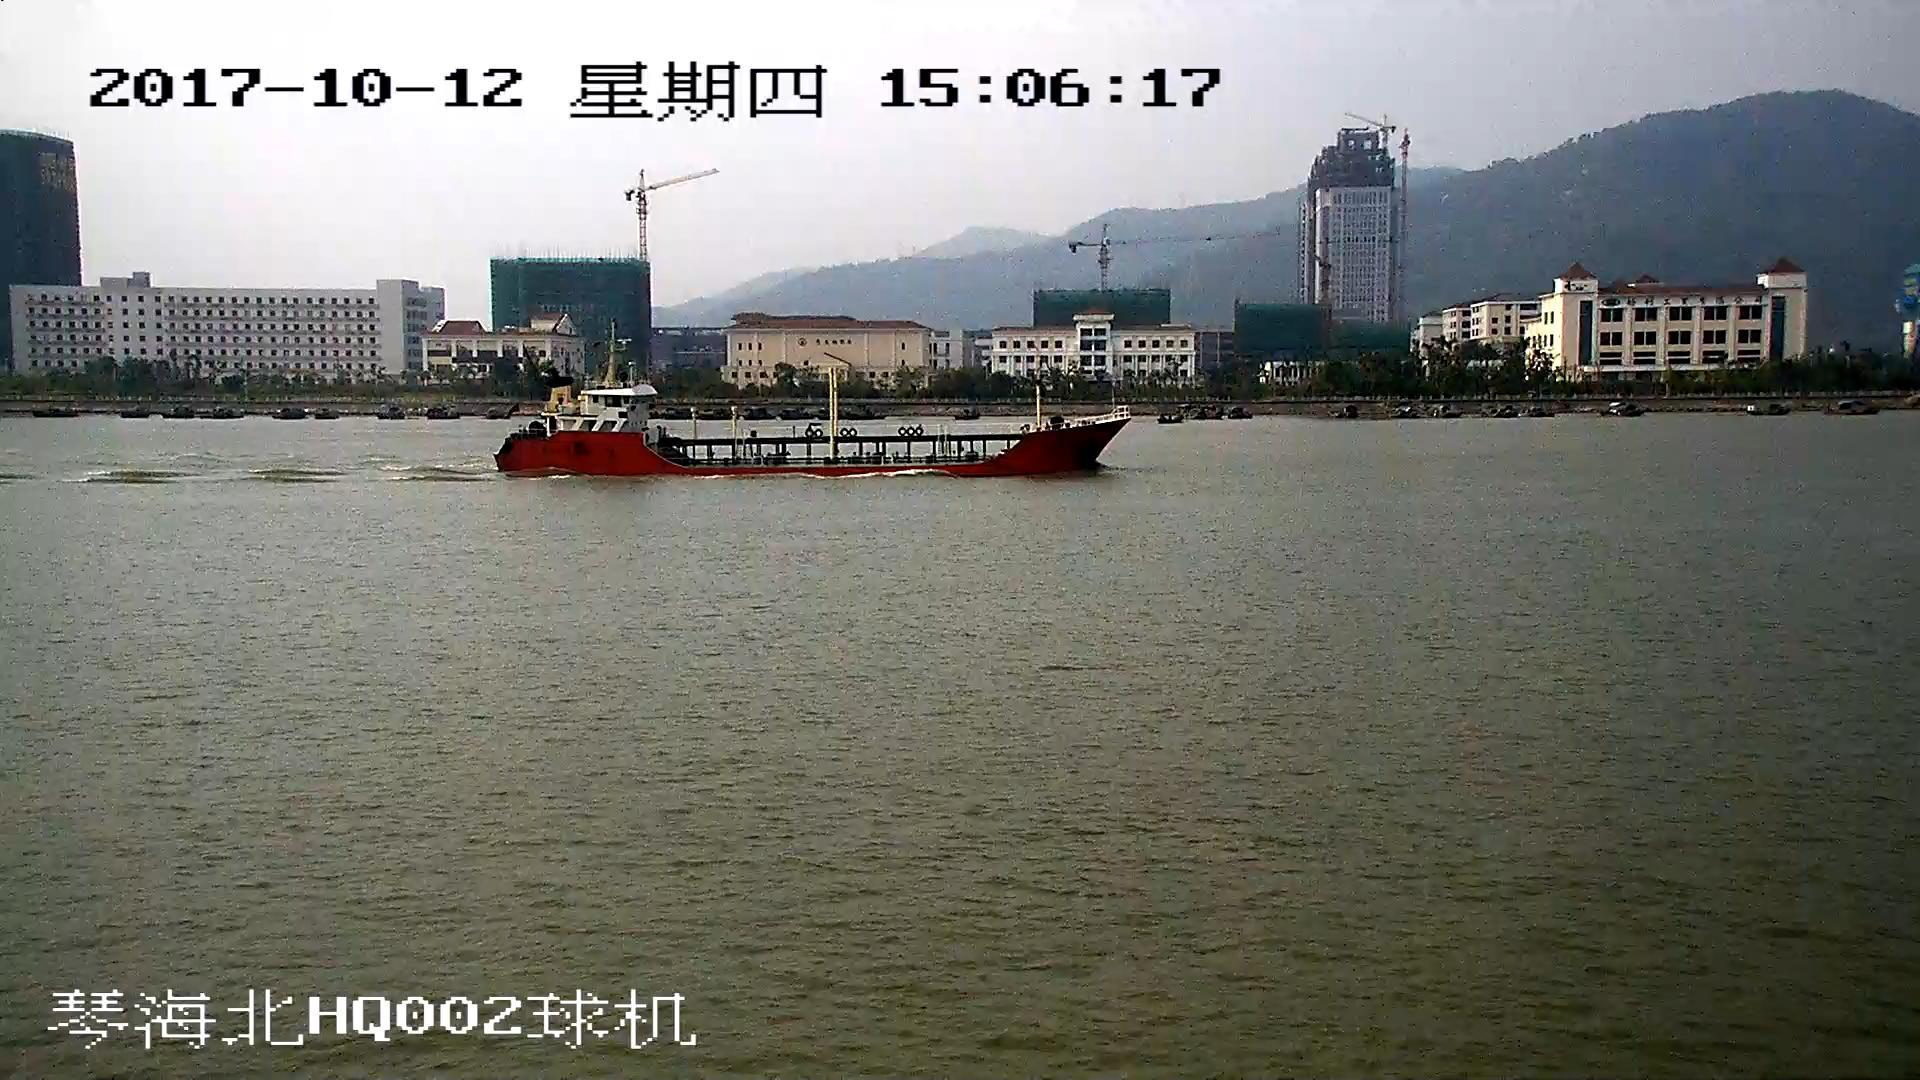Ship: (501, 340, 1130, 477)
